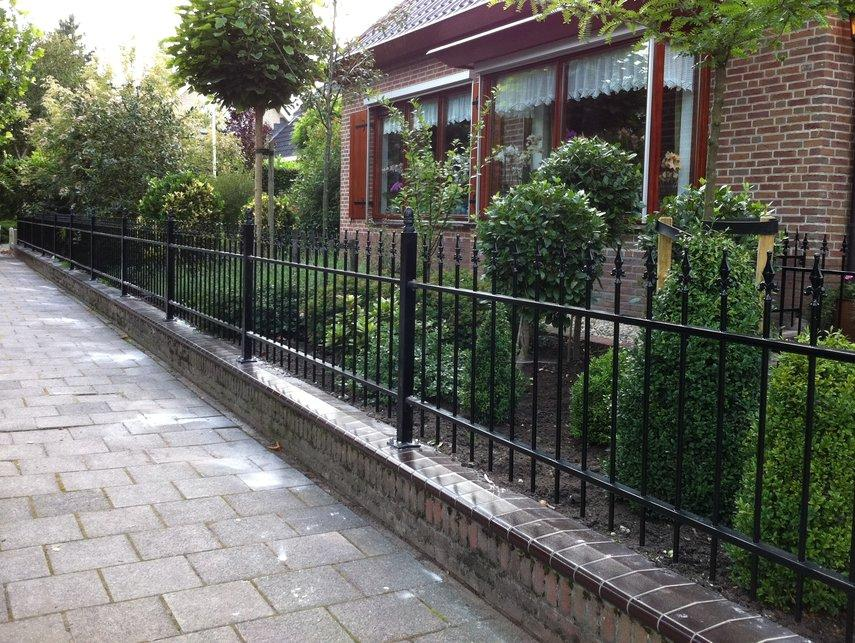obstacle: (0, 24, 830, 640)
